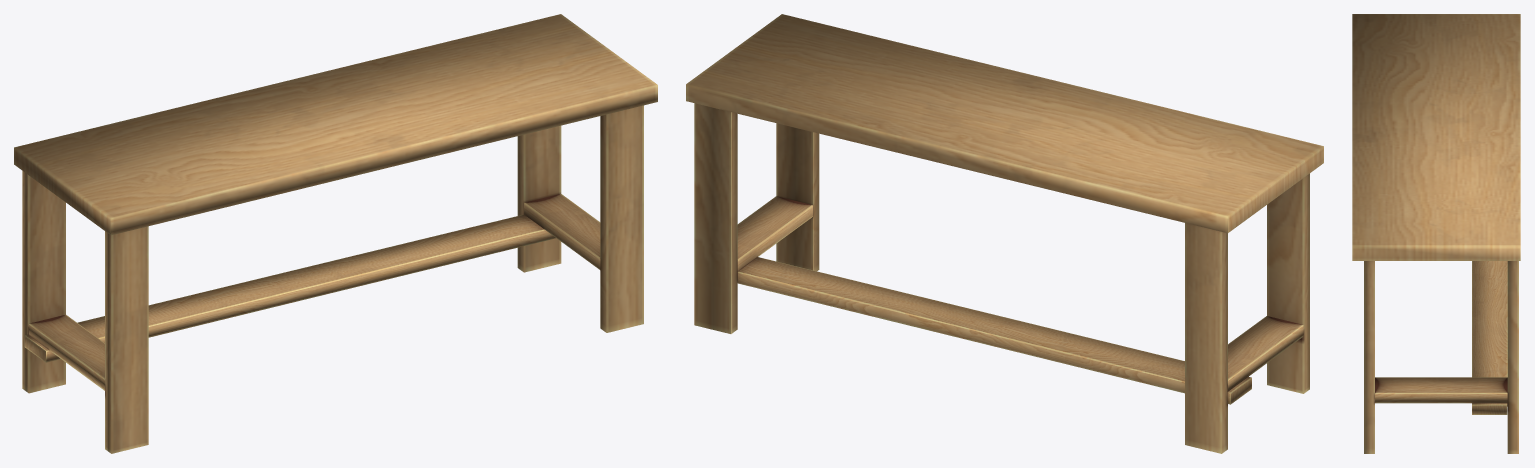
File: Workbench_Prop.fbx
The picture shows the model from 3 angles, left to right: view 1: azimuth 30°, elevation 25°; view 2: azimuth 150°, elevation 25°; view 3: azimuth 270°, elevation 25°; orthographic projection. The views are drawn at different scales.
Parts seen in each view (by area): view 1: Workbench_mesh; view 2: Workbench_mesh; view 3: Workbench_mesh.
Part boxes in pixels (left/top/right/bottom): Workbench_mesh: left=14, top=14, right=657, bottom=453; Workbench_mesh: left=686, top=14, right=1323, bottom=453; Workbench_mesh: left=1352, top=14, right=1520, bottom=453.
Size of the model in its own units: 1705 by 722 by 523.
